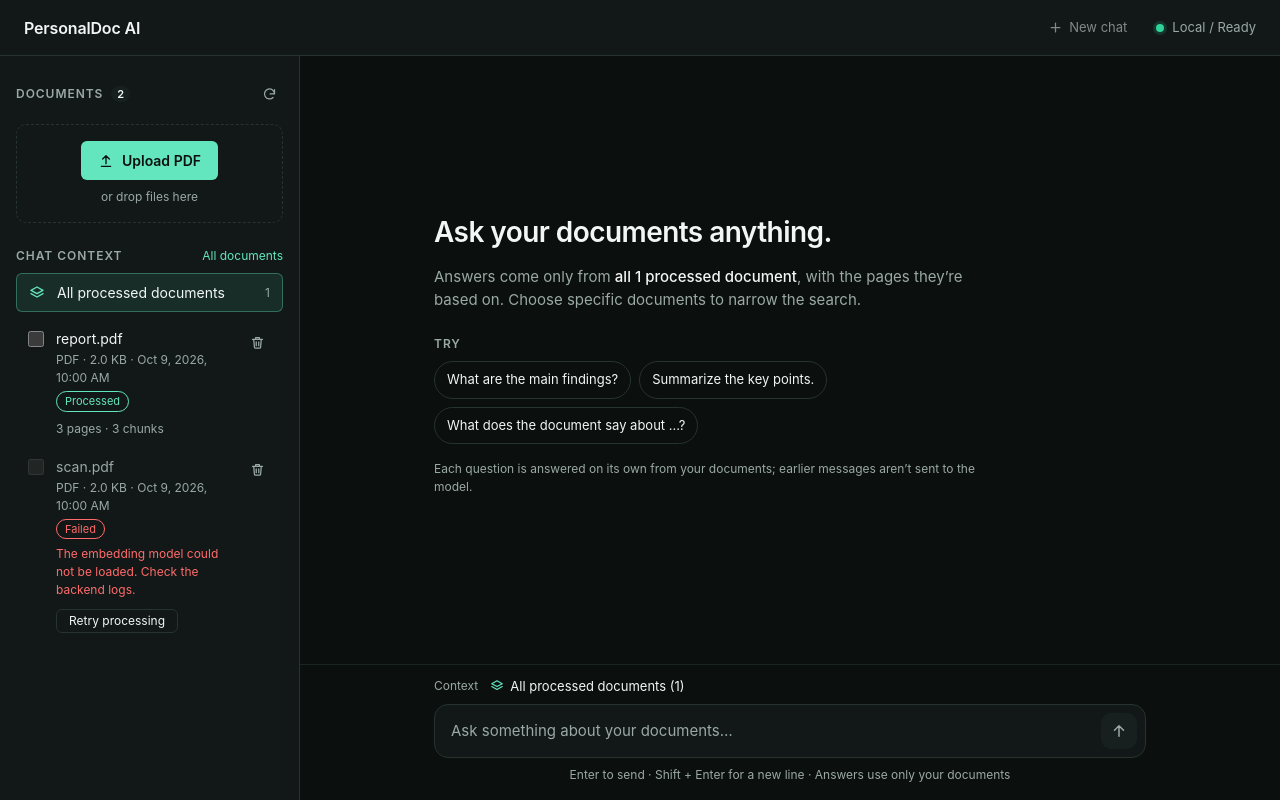
retry processing › is disabled while the request is pending, so a second click sends nothing
Expected: the checkbox named "Ask about report.pdf" is shown, [28, 331, 44, 347]
Click the button "Retry processing" at point(117, 621), box [56, 609, 178, 633]
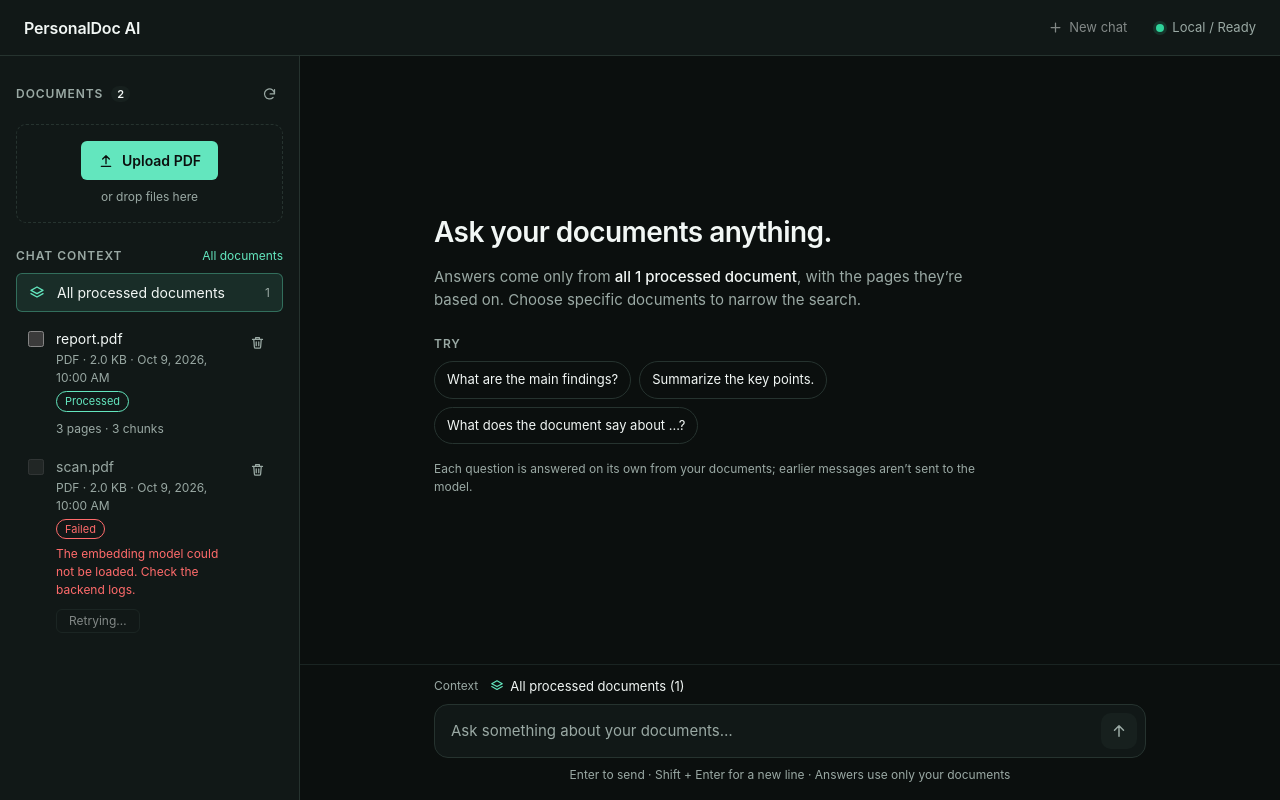
Expected: the button "Retrying…" is disabled
Click the button "Retrying…" at point(98, 621), box [56, 609, 140, 633]
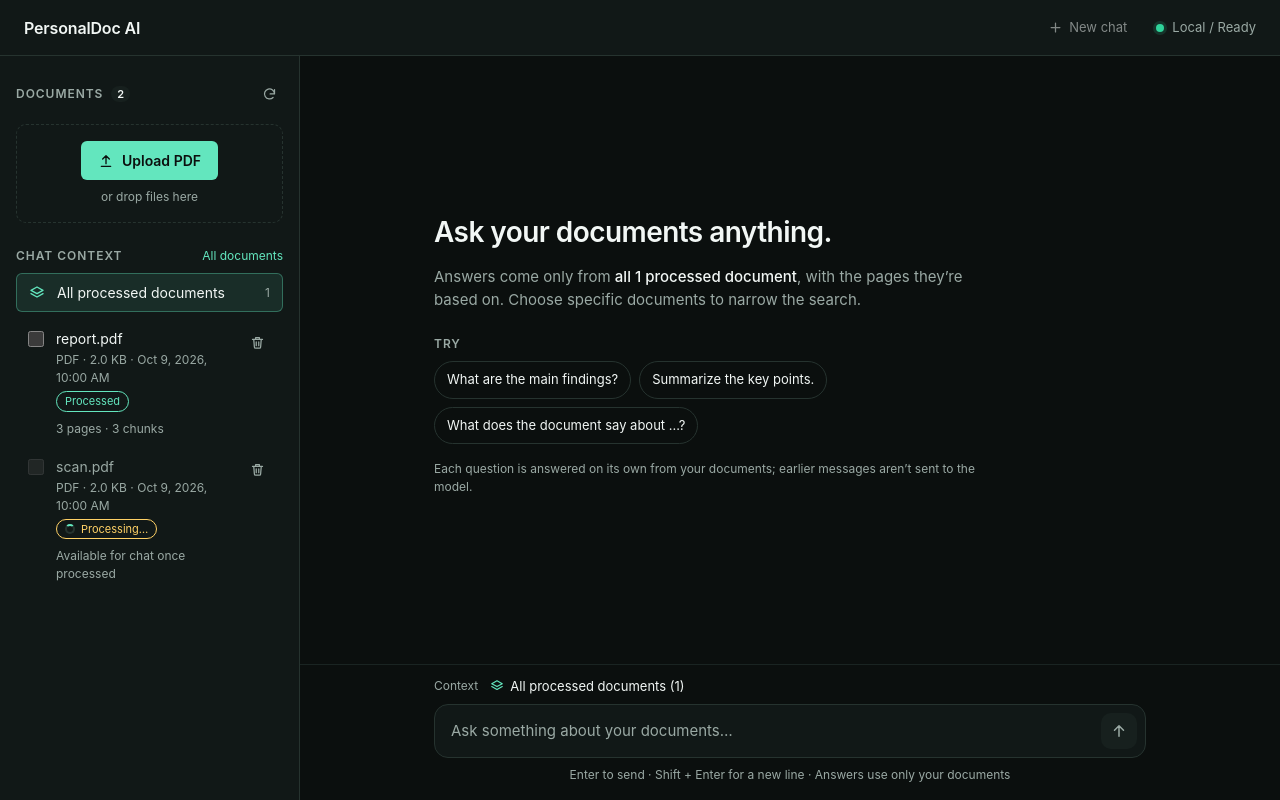
Expected: the text "Processing…" is shown, [56, 518, 157, 539]
